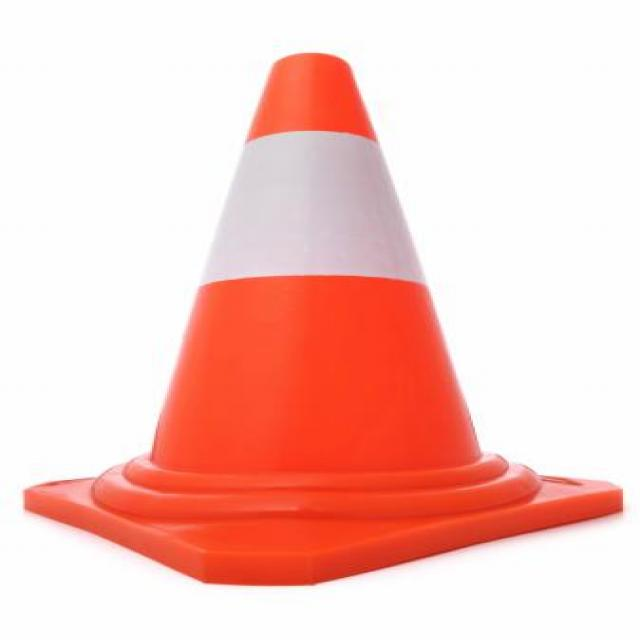Cone: (28, 52, 621, 587)
